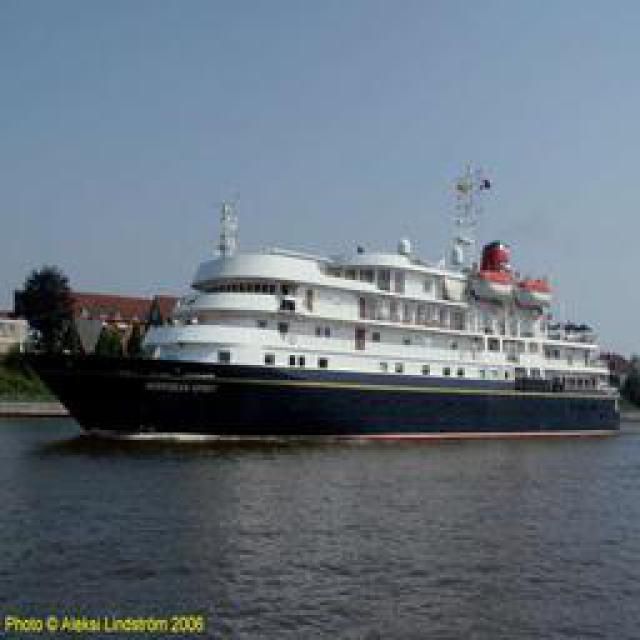Ship: (30, 170, 623, 440)
